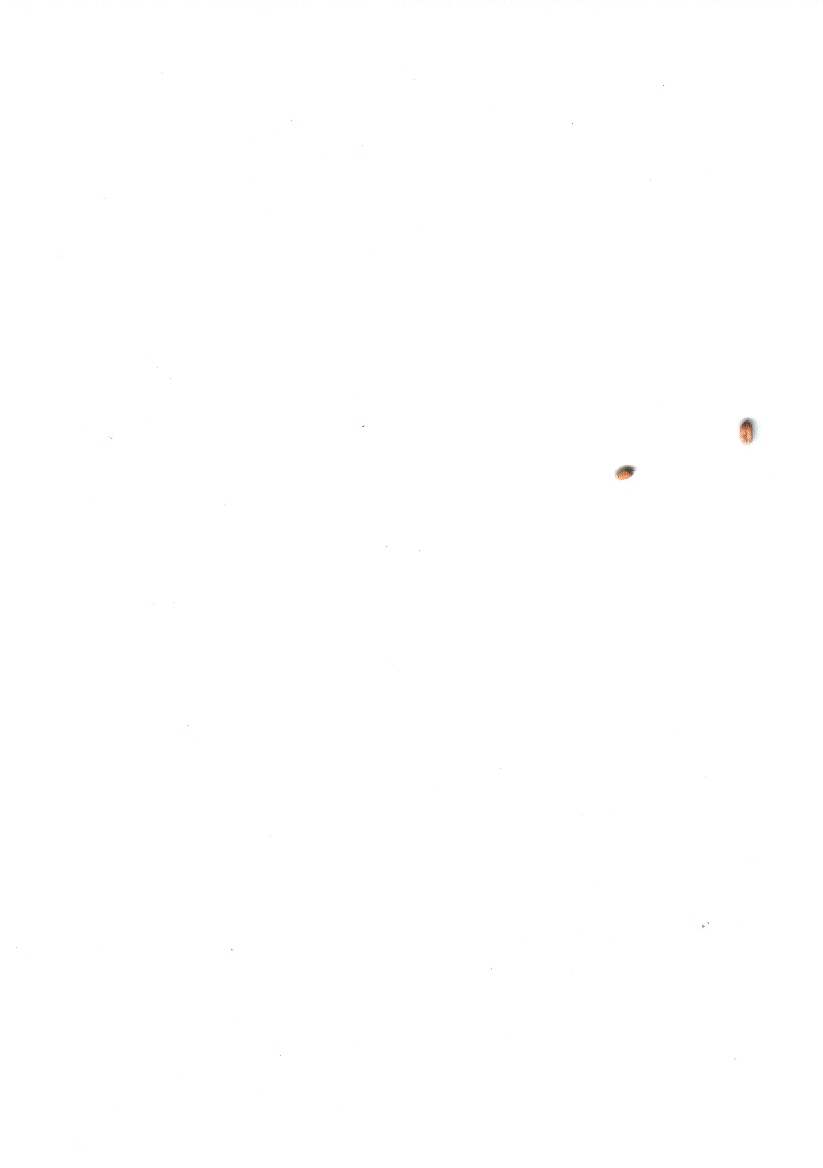grains: (728, 411, 773, 456), (605, 450, 649, 494)
